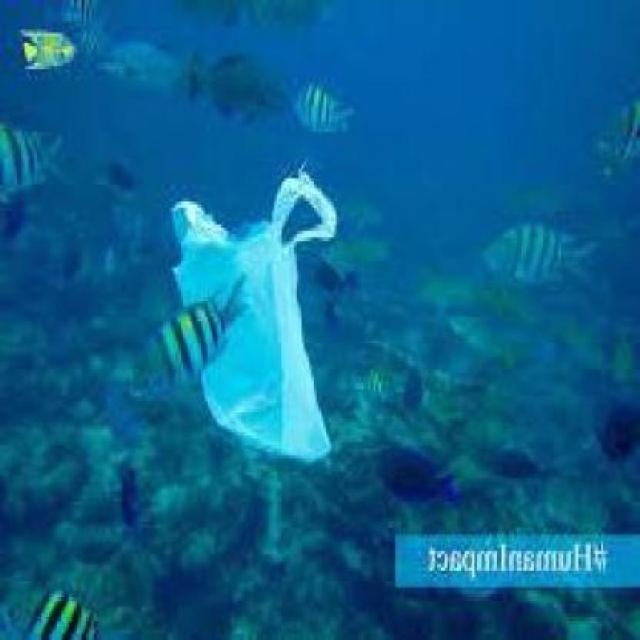pbag: (168, 168, 338, 468)
